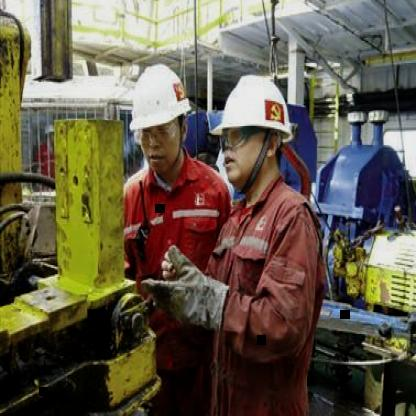helmet: (215, 69, 299, 149), (120, 62, 196, 138)
